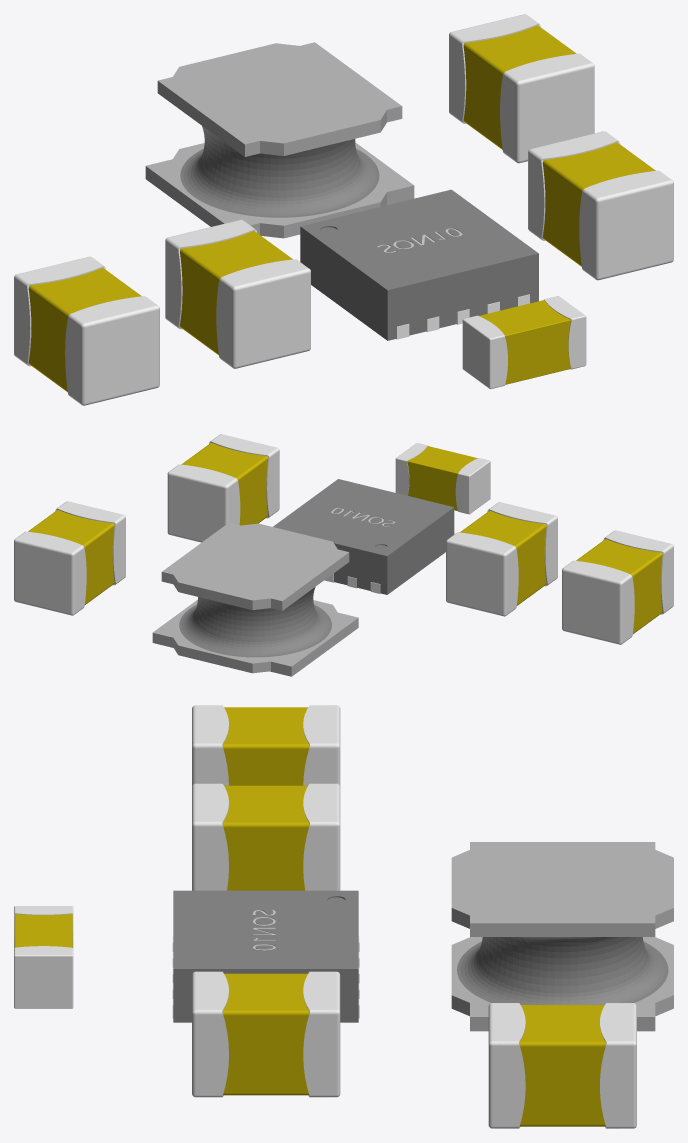
The model's file is r8-parts-5.glb.
3 renders of one model, top to bottom at view 1: azimuth 30°, elevation 25°; view 2: azimuth 150°, elevation 25°; view 3: azimuth 270°, elevation 25°, orthographic. The views are drawn at different scales.
Parts seen in each view (by area): view 1: L1, U3, C4, C12, C3, C11, C13; view 2: L1, U3, C4, C12, C11, C3, C13; view 3: L1, C3, C11, U3, C4, C12, C13.
Part boxes in pixels (x1,y1,x2,y2): L1: (145,42,414,238); U3: (300,189,538,340); C4: (165,219,310,368); C12: (14,256,159,405); C3: (528,131,673,280); C11: (449,14,594,163); C13: (462,296,586,389); L1: (152,523,358,676); U3: (273,479,454,594); C4: (446,502,557,616); C12: (562,530,673,644); C11: (14,501,125,615); C3: (167,434,279,542); C13: (395,443,490,514); L1: (451,842,673,1031); C3: (192,971,340,1097); C11: (488,1003,636,1128); U3: (172,890,359,1022); C4: (192,783,340,890); C12: (192,705,340,785); C13: (14,906,73,1008).
Bounding box in the file's own units: 10.8 × 1.51 × 8.9.
